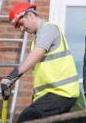gloves: (0, 66, 20, 99), (1, 0, 1, 0)
hard-hat: (9, 2, 37, 28)
ppe-suit: (0, 0, 2, 1)
